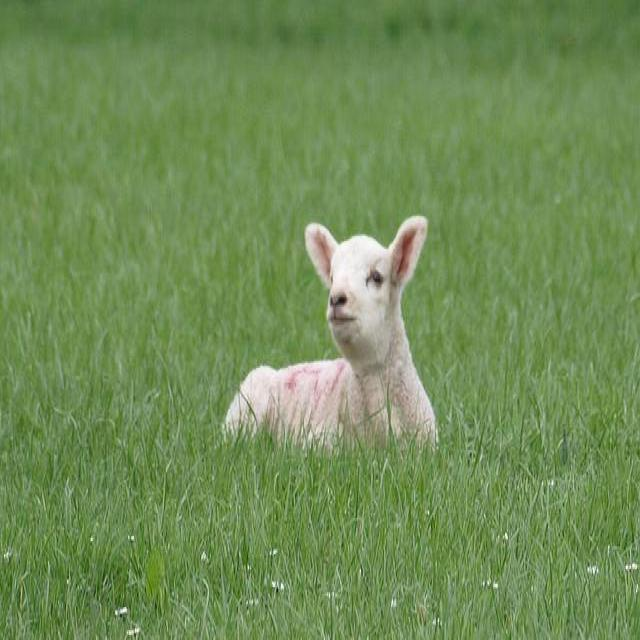Sheep: (221, 214, 437, 440)
